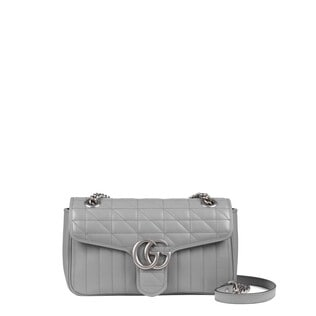Gucci: (64, 193, 238, 299), (127, 232, 179, 277)
